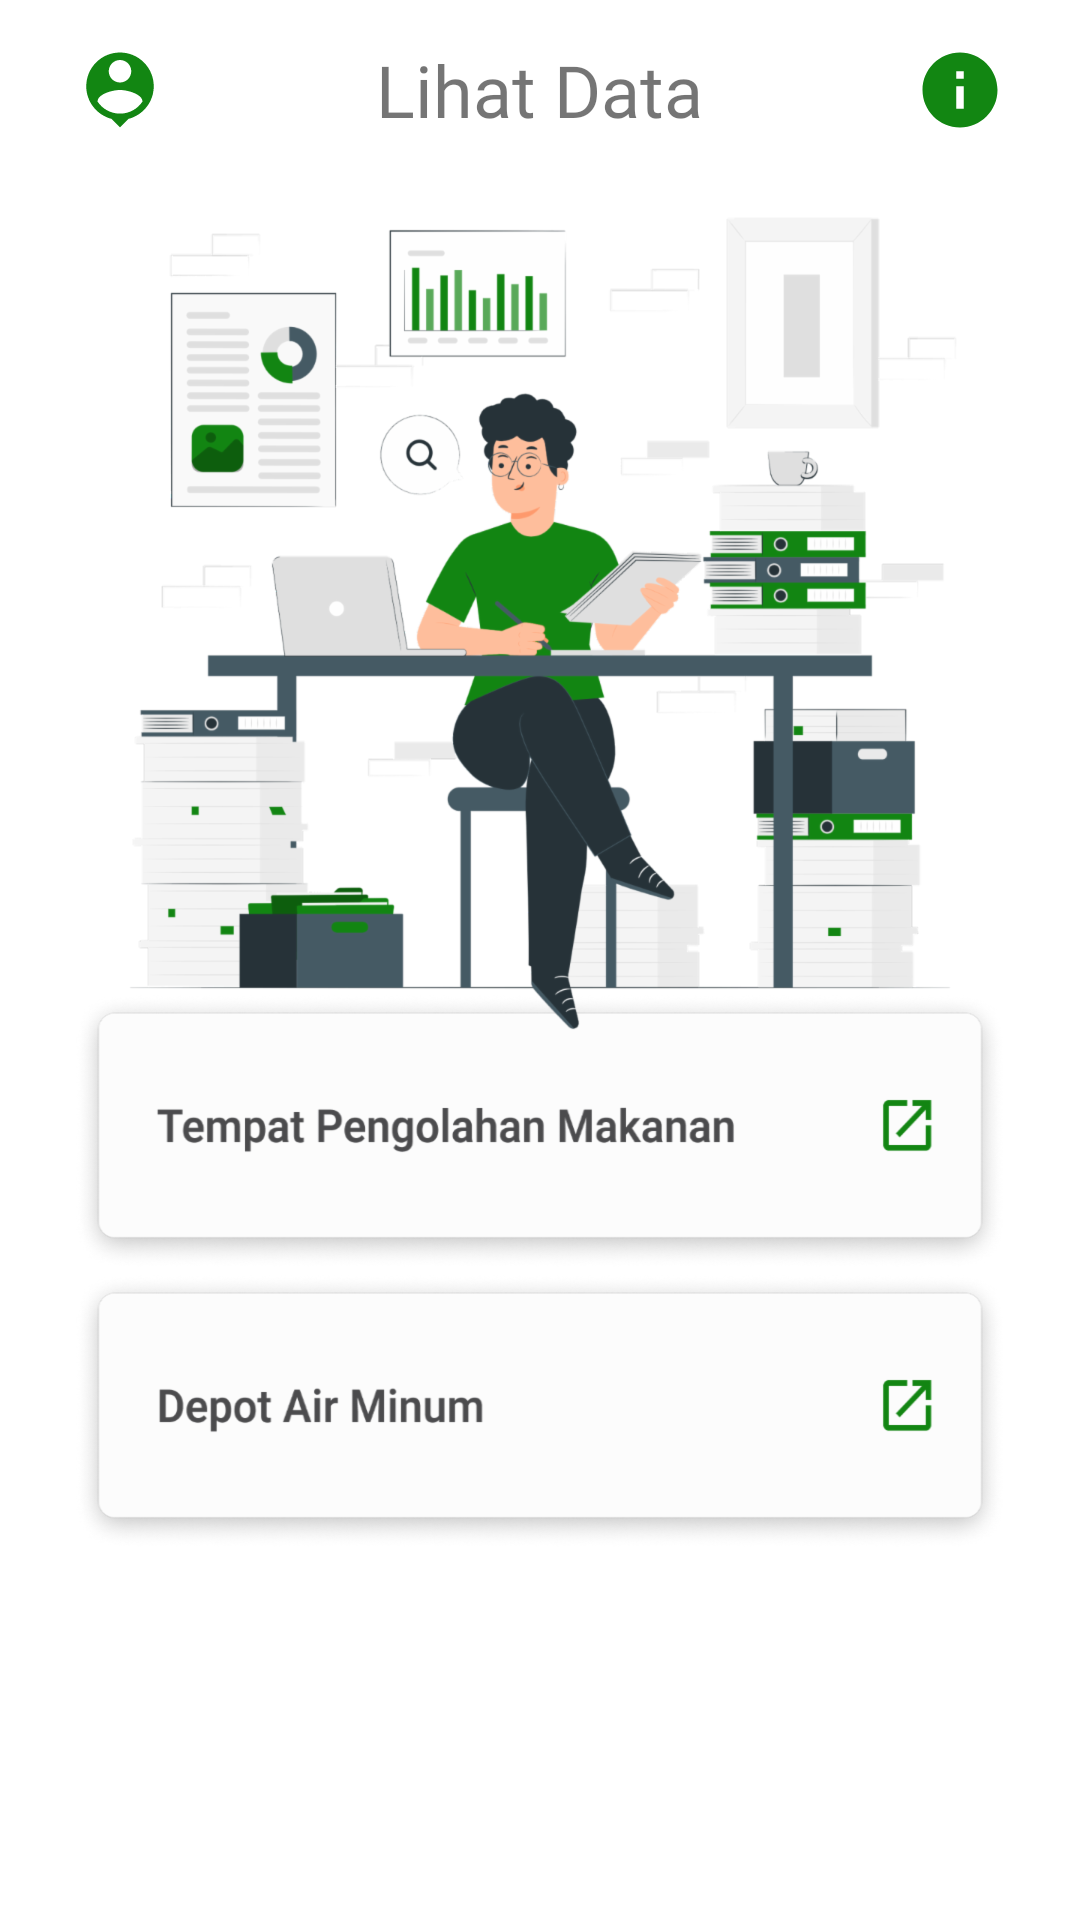

Screen size 1080*1920. Icon name, then its box in pixels as {"left": x1, "top": y1, "right": x2, "bottom": y2}:
info: {"left": 922, "top": 52, "right": 998, "bottom": 128}
person pin: {"left": 86, "top": 52, "right": 154, "bottom": 127}
